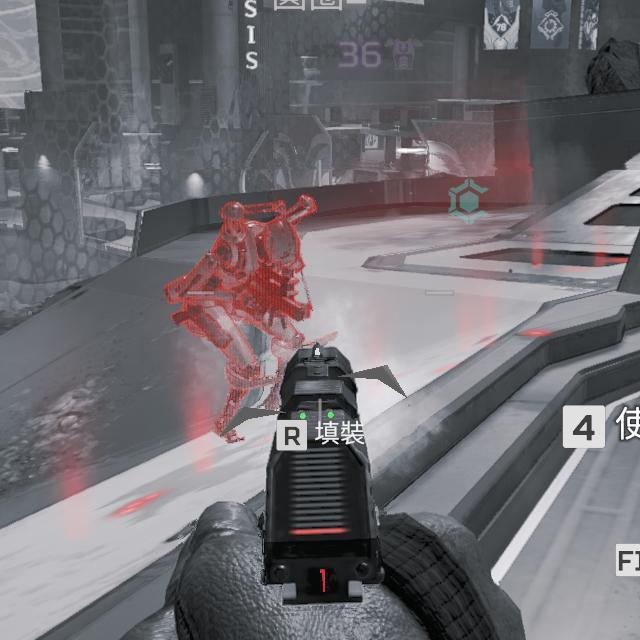avatar: (163, 191, 317, 445)
